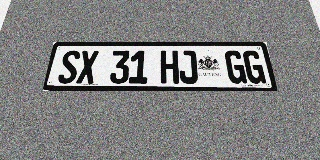1: (129, 50, 148, 84)
3: (109, 50, 130, 84)
G: (242, 50, 266, 84), (224, 50, 247, 84)
H: (161, 50, 179, 84)
J: (178, 50, 198, 84)
S: (57, 50, 81, 84)
X: (76, 50, 99, 84)
